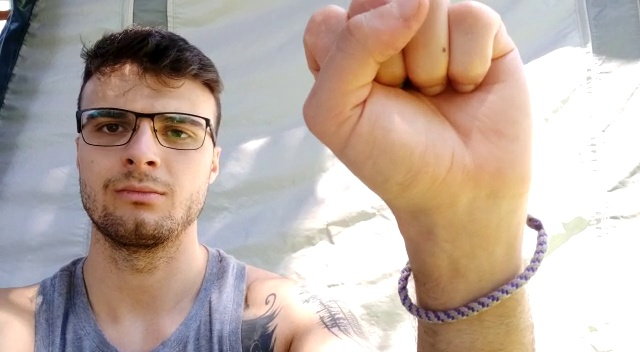Fist: (300, 1, 542, 220)
